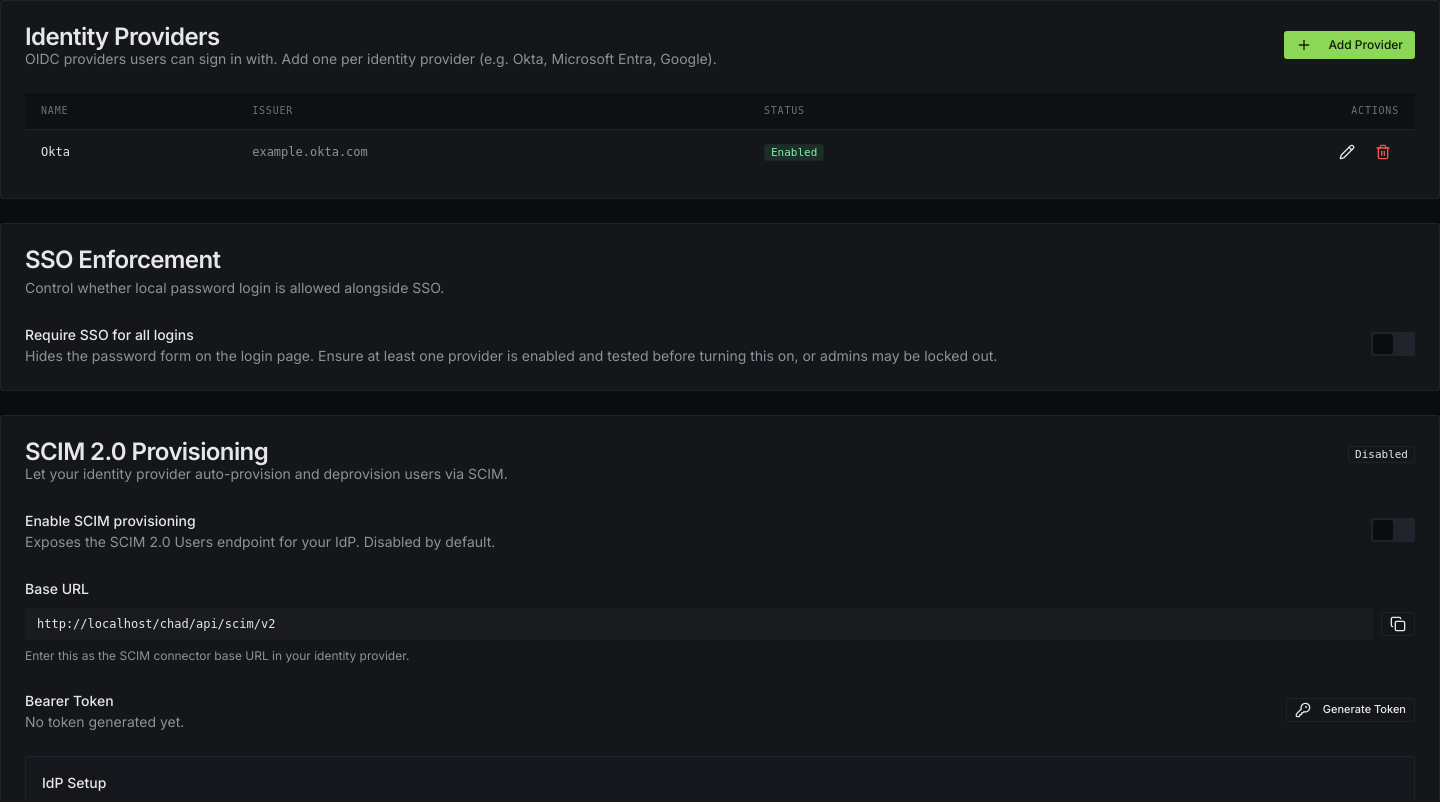
Test: SsoSettings › opens the provider editor and adds a group-mapping row
# Open the editor for the existing provider.
Click the button named "edit okta".
click(1347, 152)  # box left=1331, top=140, right=1363, bottom=164
(page scrolled)
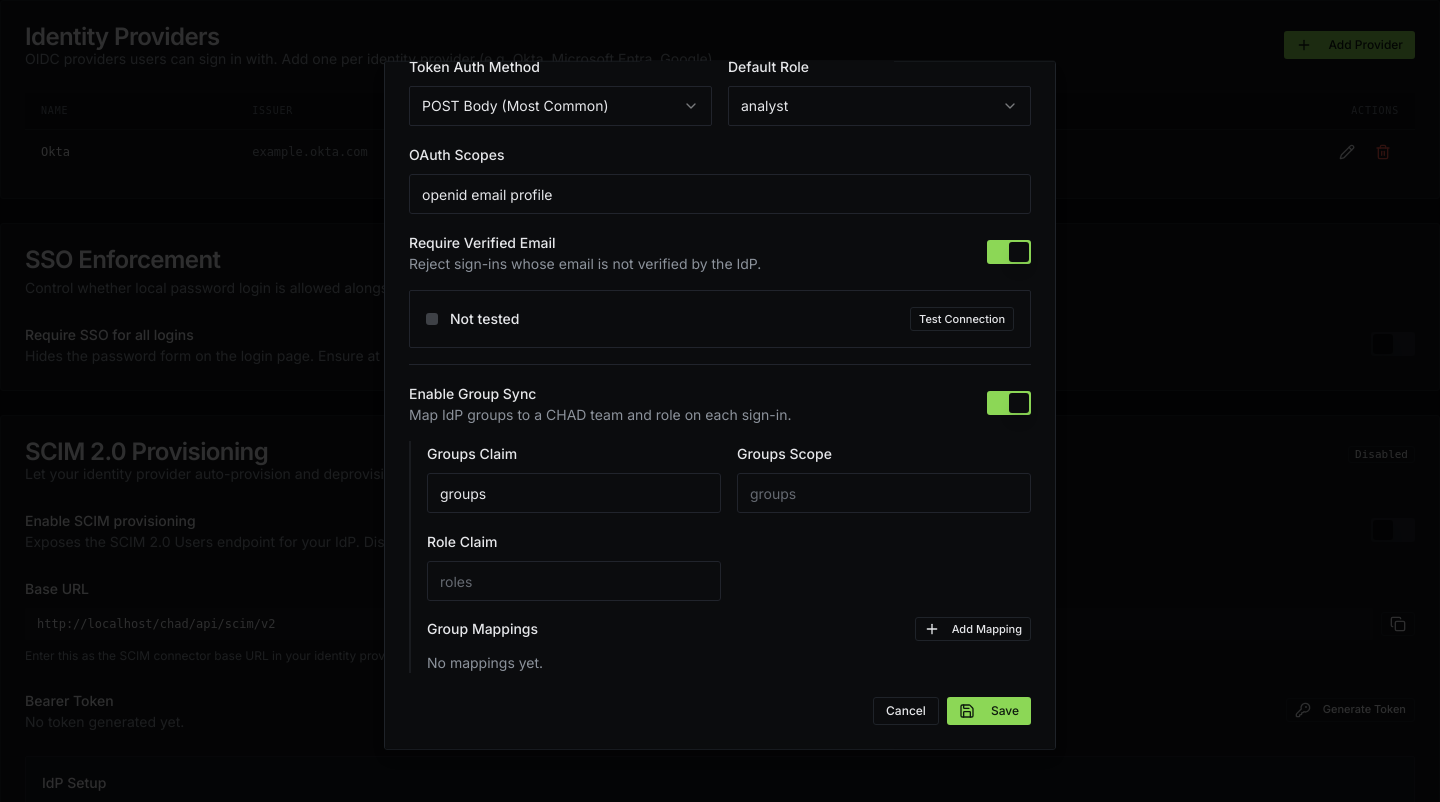
Result: the text "No mappings yet." is shown at left=427, top=654, right=543, bottom=671
# Add a mapping row.
Click the button "Add Mapping".
click(973, 629)  # box left=915, top=617, right=1031, bottom=641
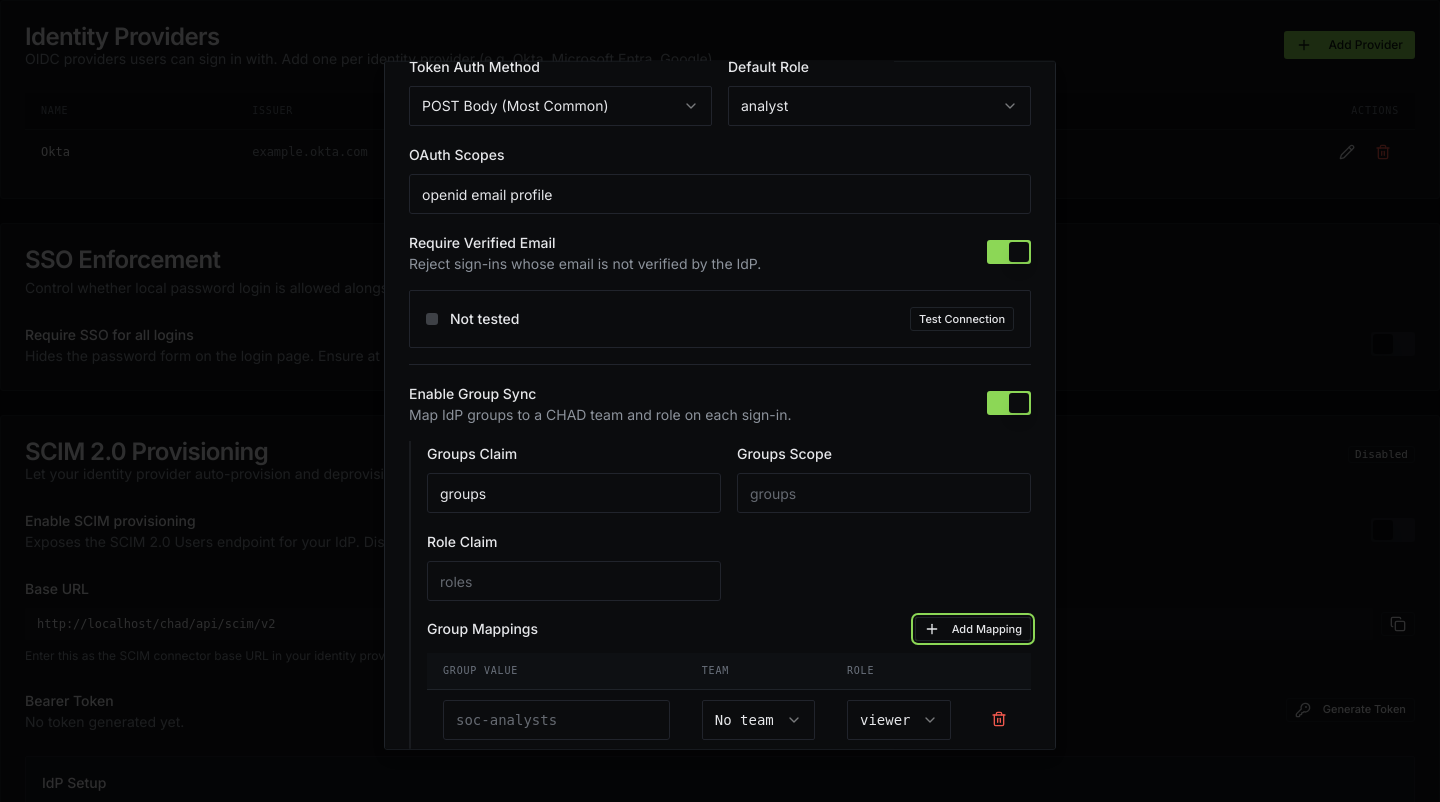
Result: the field named "group value 1" is shown at left=443, top=699, right=670, bottom=739
Result: the dropdown named "team 1" is shown at left=702, top=699, right=815, bottom=739
Result: the dropdown named "role 1" is shown at left=847, top=699, right=951, bottom=739
